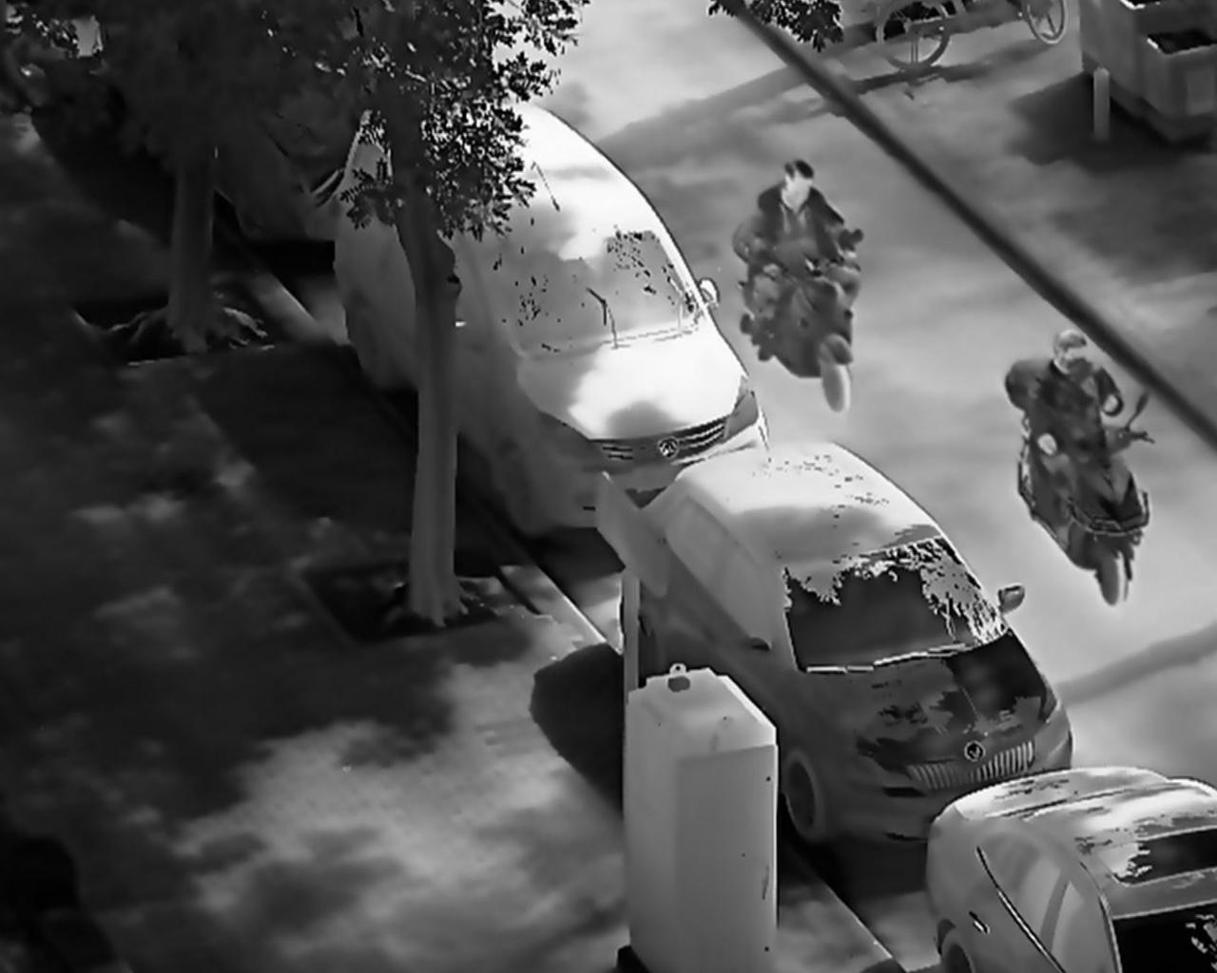person: (1026, 325, 1132, 531), (750, 157, 857, 347)
